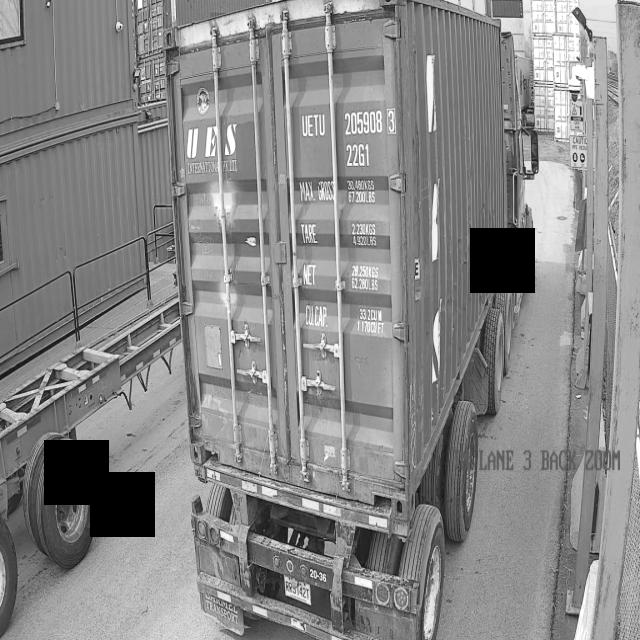container_company_logo: (185, 113, 255, 176)
container_number: (298, 98, 405, 169)
license_plate: (272, 571, 322, 608)
other_container_info: (298, 165, 400, 344)
truck_trailer: (0, 294, 181, 590)
truck_with_container: (164, 0, 538, 640)
